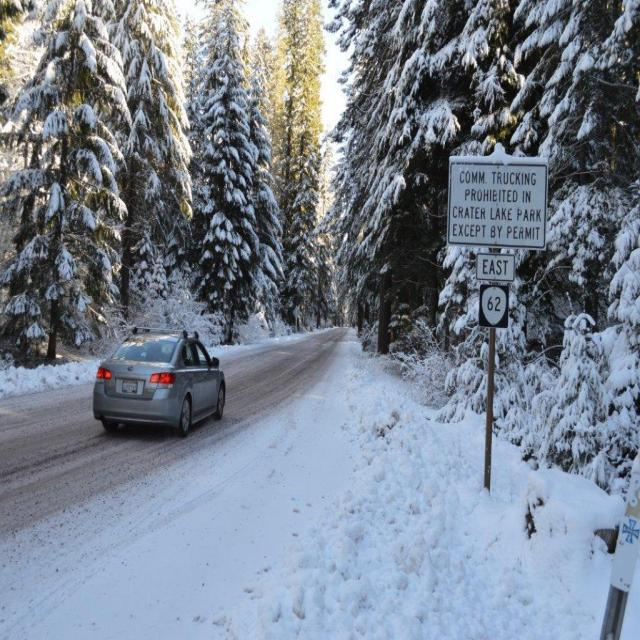car: (94, 325, 224, 437)
